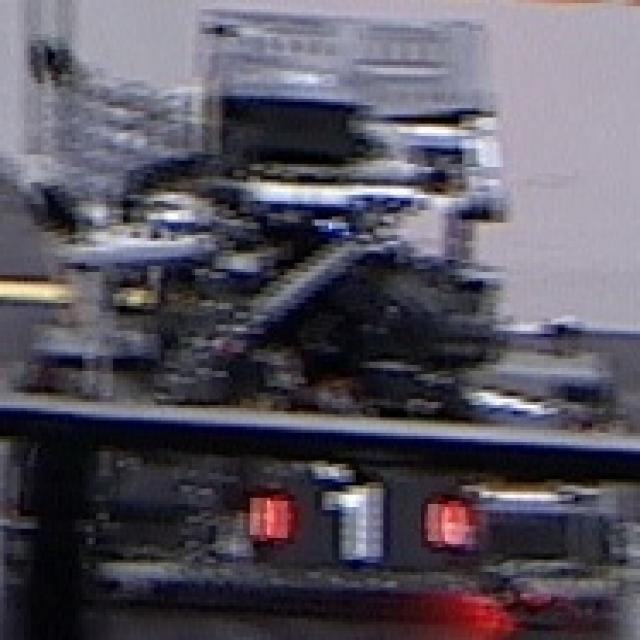R1: (236, 463, 479, 562)
